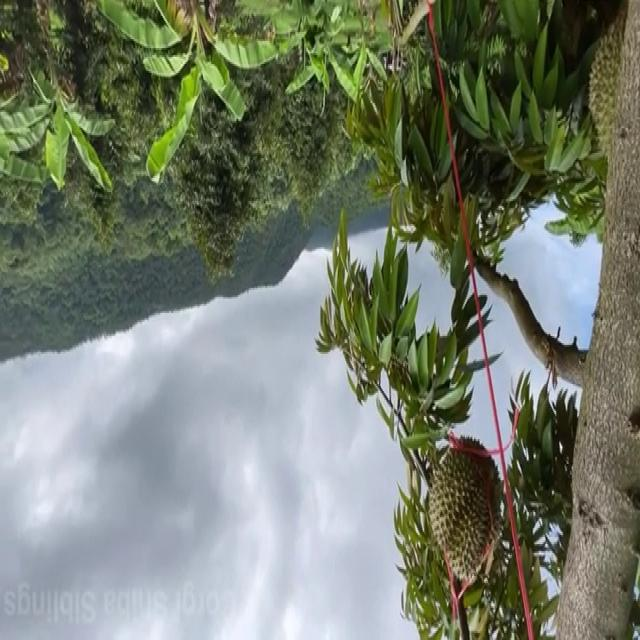durian: (426, 435, 506, 584)
